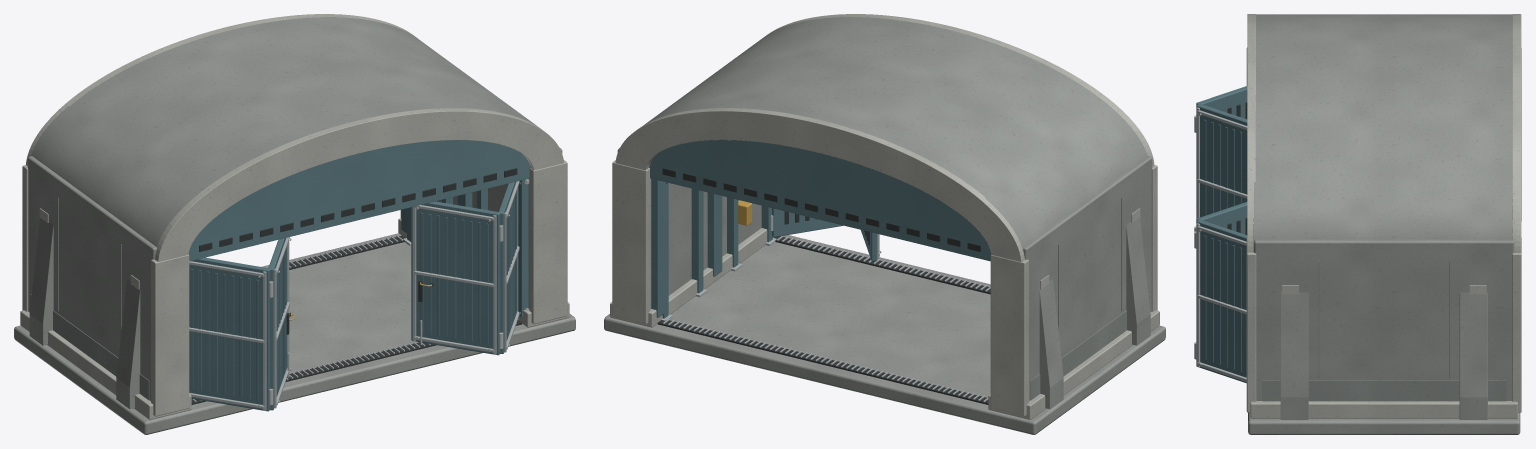
File: gorgehold-survivor-gallery-and-operations-gallery-vehi-31f866fd__32897.glb
The picture shows the model from 3 angles, left to right: view 1: azimuth 30°, elevation 25°; view 2: azimuth 150°, elevation 25°; view 3: azimuth 270°, elevation 25°; orthographic projection. The views are drawn at different scales.
Visible parts, largest first — view 1: gallery-vehicle-portal-pass-through, gallery-foundation; view 2: gallery-vehicle-portal-pass-through, gallery-foundation; view 3: gallery-vehicle-portal-pass-through, gallery-foundation.
Part boxes in pixels (x1,y1,x2,y2): gallery-vehicle-portal-pass-through: [20, 14, 569, 419]; gallery-foundation: [14, 233, 575, 434]; gallery-vehicle-portal-pass-through: [610, 14, 1159, 419]; gallery-foundation: [604, 235, 1165, 434]; gallery-vehicle-portal-pass-through: [1194, 14, 1521, 419]; gallery-foundation: [1248, 412, 1520, 434].
Size of the model in its own units: 8.5 by 4.9 by 5.41.
8 materials, 5 textured.
